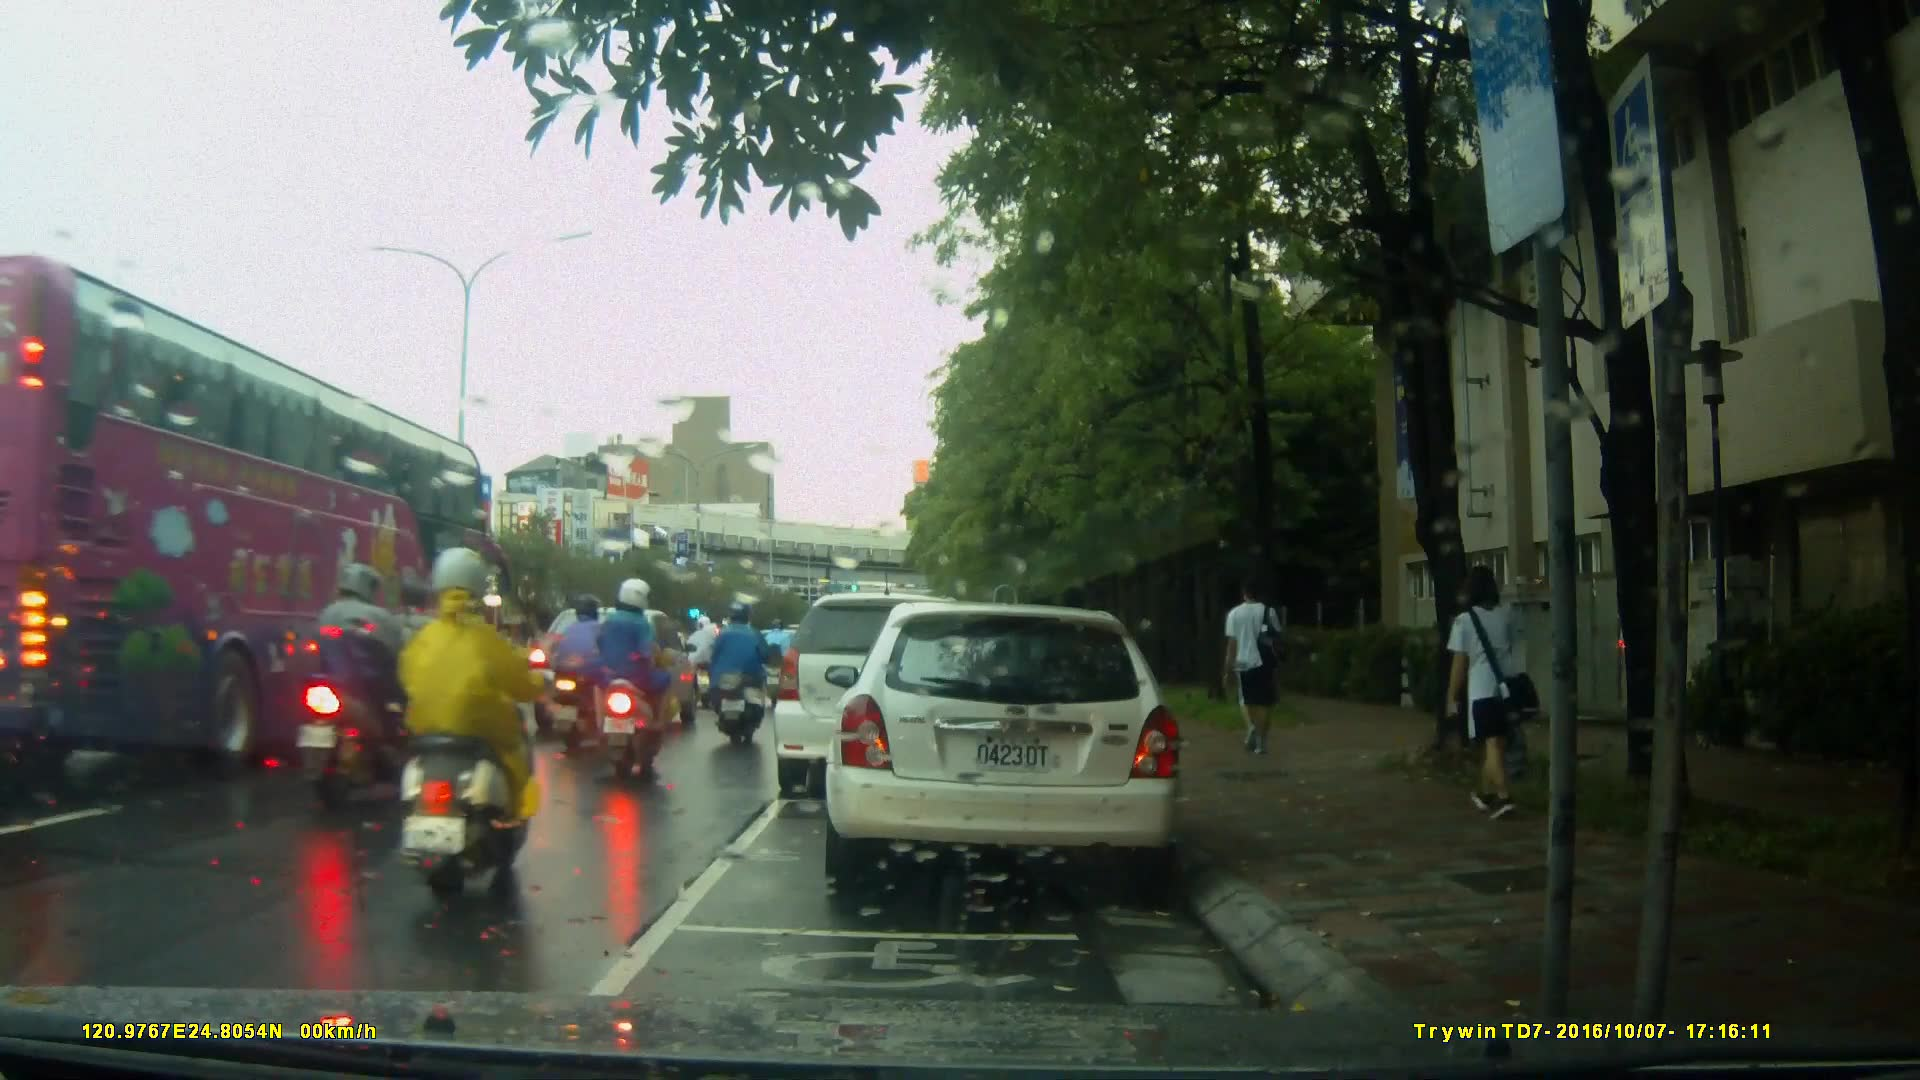pedestrian: (1436, 565, 1530, 830), (1206, 576, 1281, 764)
rider: (401, 537, 544, 912), (300, 558, 424, 816), (583, 574, 672, 798), (555, 595, 624, 759), (705, 600, 769, 753), (718, 613, 766, 712), (761, 614, 795, 691)
vehicle: (3, 278, 523, 774), (835, 594, 1194, 898), (776, 590, 1026, 784), (522, 604, 702, 745)
